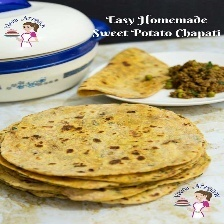sabzi: (160, 57, 223, 101)
